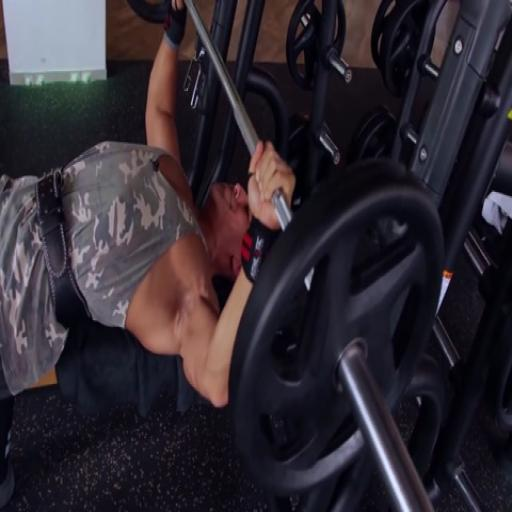exercise: (0, 0, 299, 511)
